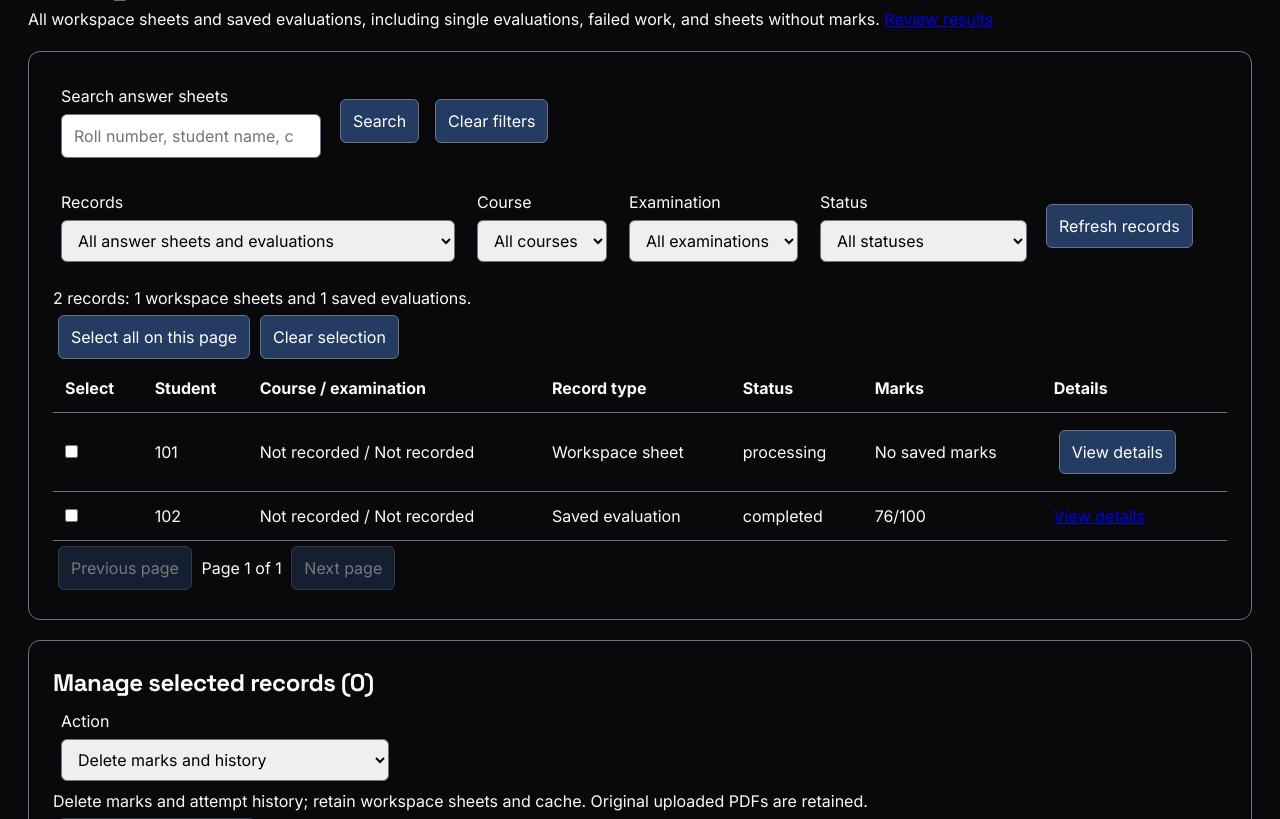
Test: stopping selected active workspace sheets retains mixed selection and enables Apply when idle
What coordinates should you click on to do the following:
click the button "Select all on this page"
I would click on:
 (154, 337)
Its box is [58,315,250,359].
(page scrolled)
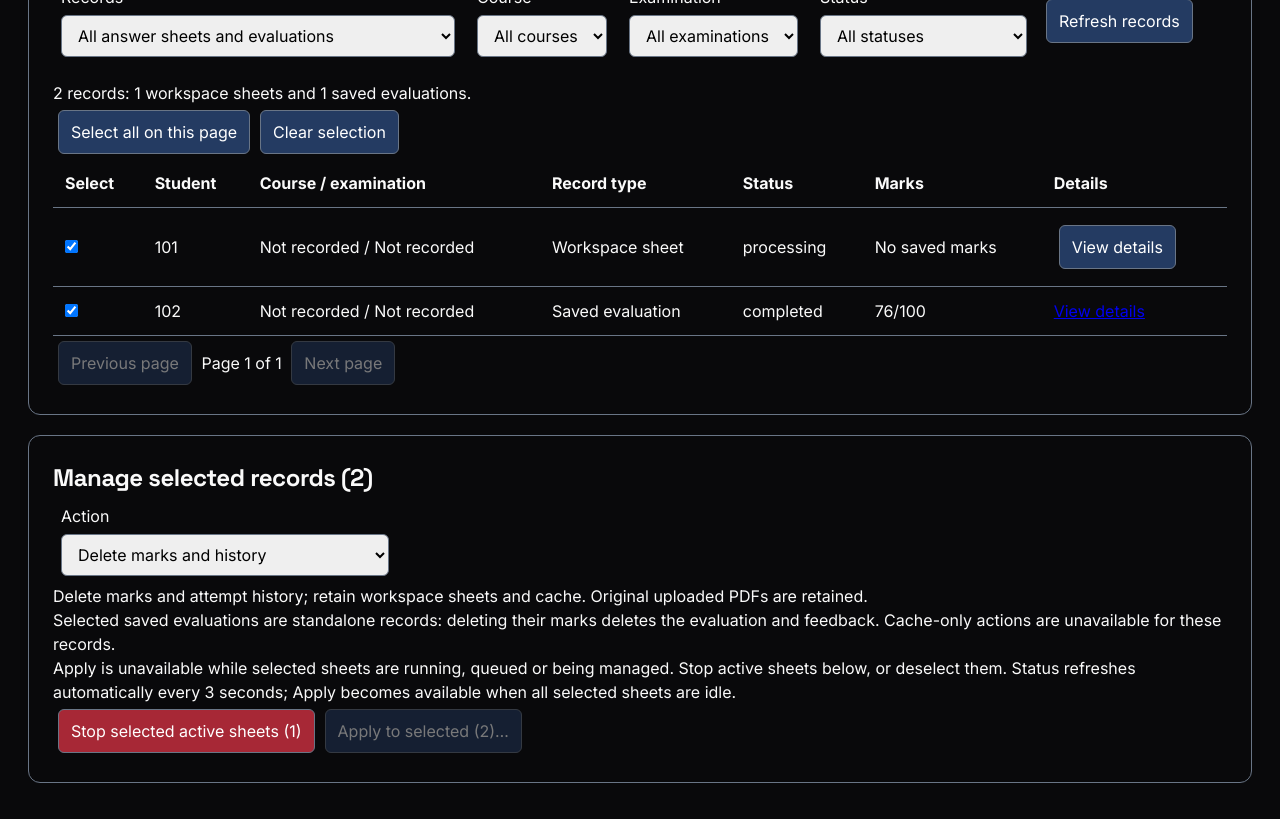
Expected: the button "Apply to selected (2)…" is disabled, [325,709,522,753]
What coordinates should you click on to do the following:
click the button "Stop selected active sheets (1)"
I would click on:
 (186, 731)
Its box is [58,709,315,753].
(page scrolled)
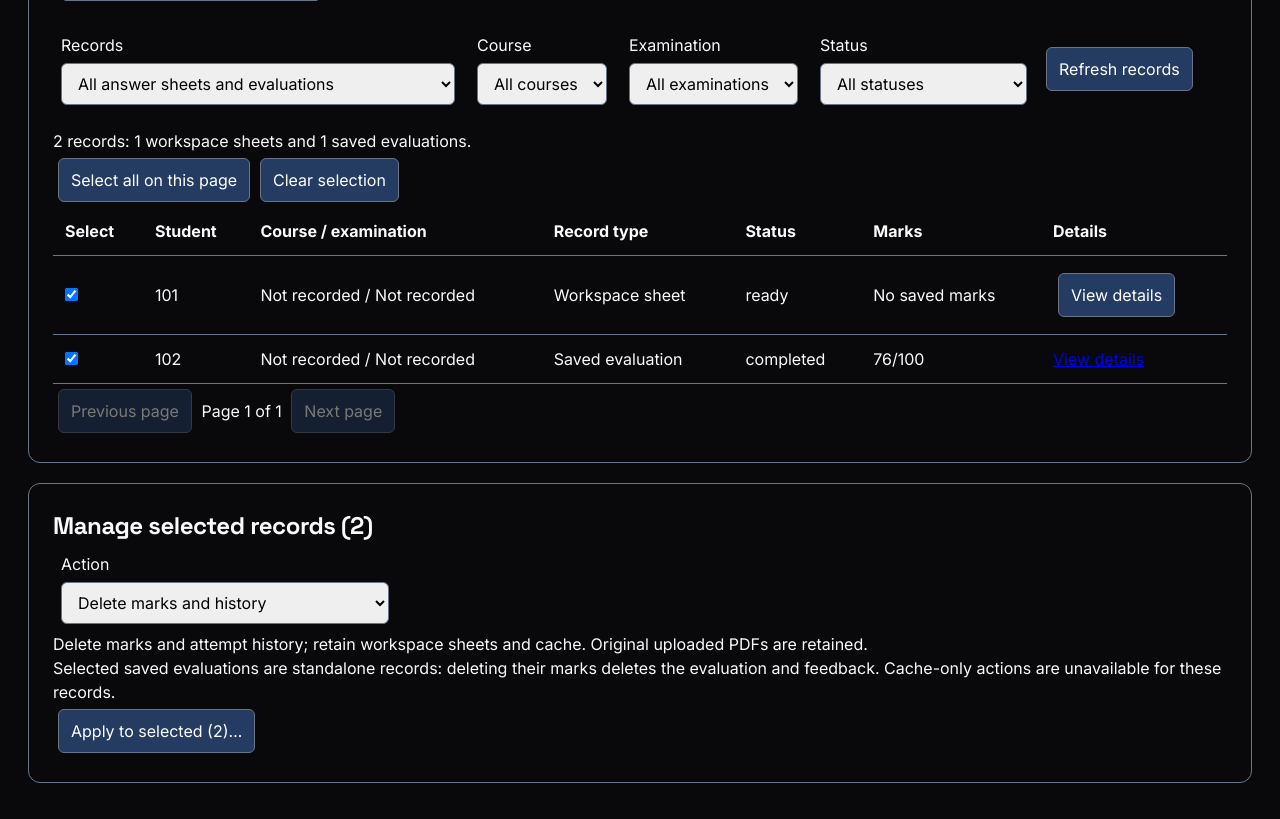
Result: the checkbox named "Select 101 workspace" is checked at [65,288,78,301]
Result: the checkbox named "Select 102 legacy" is checked at [65,352,78,365]
Result: the button "Apply to selected (2)…" is enabled at [58,709,255,753]
